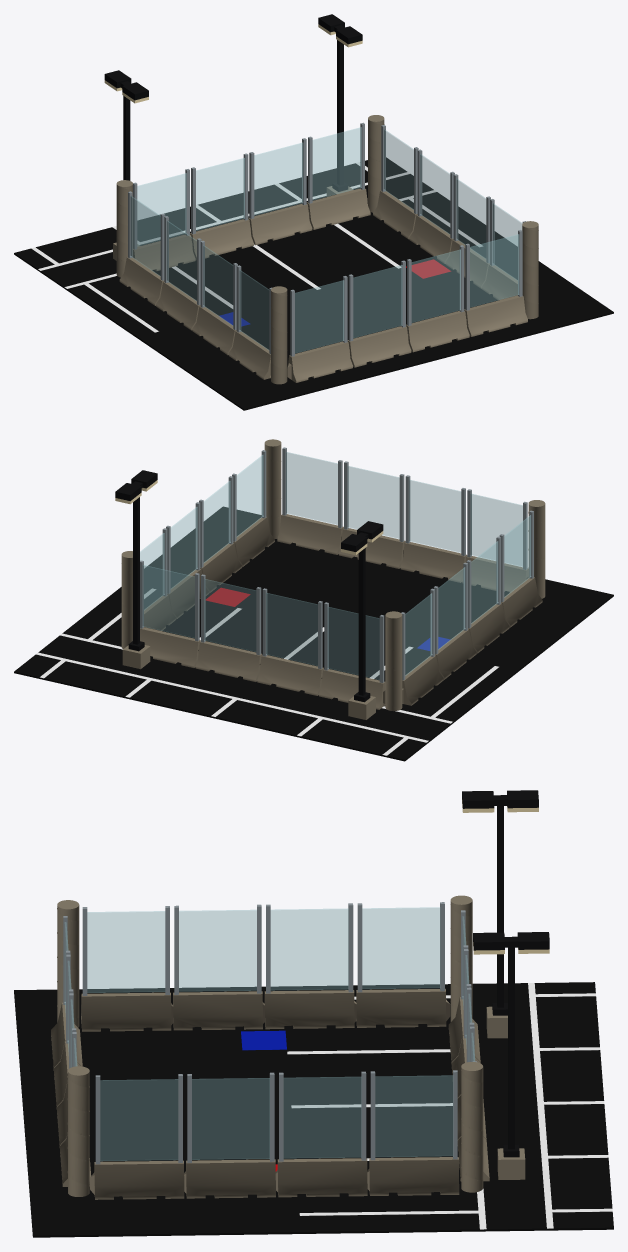
3 renders of one model, top to bottom at view 1: azimuth 30°, elevation 25°; view 2: azimuth 150°, elevation 25°; view 3: azimuth 270°, elevation 25°, orthographic. The views are drawn at different scales.
Parts seen in each view (by area): view 1: Object_10, Object_2, Object_4, Object_3, Object_8, Object_7; view 2: Object_10, Object_2, Object_4, Object_3, Object_8, Object_7, Object_5; view 3: Object_10, Object_2, Object_4, Object_3, Object_8, Object_7, Object_9, Object_6.
Boxes of the visible parts, x1,y1,x2,y2 form: Object_10: [14, 157, 613, 410]; Object_2: [130, 127, 522, 353]; Object_4: [113, 115, 538, 384]; Object_3: [128, 122, 525, 356]; Object_8: [104, 14, 362, 191]; Object_7: [31, 162, 482, 332]; Object_10: [14, 506, 613, 761]; Object_2: [140, 452, 530, 679]; Object_4: [121, 439, 545, 719]; Object_3: [140, 447, 533, 682]; Object_8: [115, 470, 383, 702]; Object_7: [36, 588, 498, 755]; Object_5: [206, 587, 250, 606]; Object_10: [14, 982, 613, 1237]; Object_2: [65, 907, 474, 1160]; Object_4: [51, 895, 525, 1199]; Object_3: [63, 902, 476, 1164]; Object_8: [462, 790, 549, 1157]; Object_7: [287, 983, 612, 1229]; Object_9: [241, 1030, 286, 1050]; Object_6: [462, 800, 549, 954].
Bounding box in the file's own units: 11.7 × 5.14 × 11.7.
